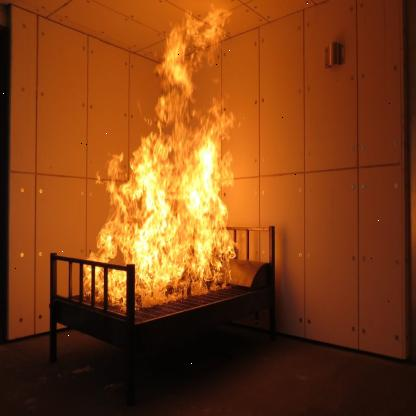fire: (75, 0, 249, 295)
